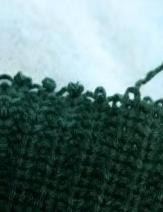snag: (125, 60, 162, 108)
